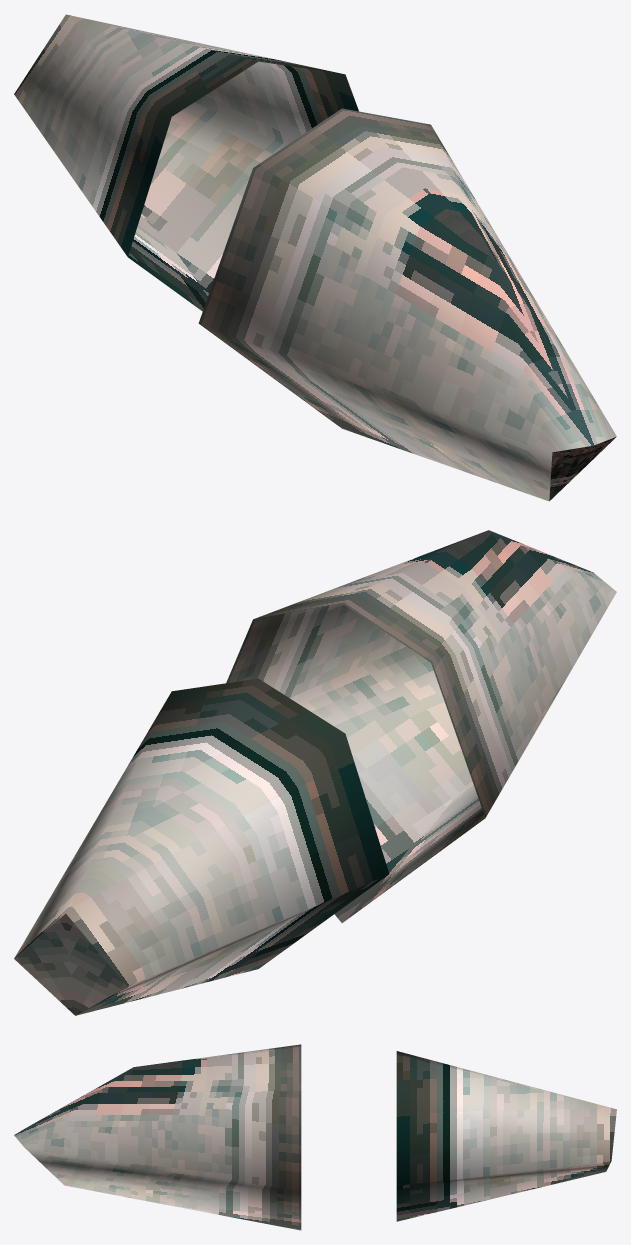
The model's file is bwing_cockpit_pod_l3.fbx.
The picture shows the model from 3 angles, top to bottom: view 1: azimuth 30°, elevation 25°; view 2: azimuth 150°, elevation 25°; view 3: azimuth 270°, elevation 25°; orthographic projection. The views are drawn at different scales.
Parts seen in each view (by area): view 1: mesh_node; view 2: mesh_node; view 3: mesh_node.
Boxes of the visible parts, x1,y1,x2,y2 form: mesh_node: (14, 14, 616, 501); mesh_node: (14, 530, 616, 1015); mesh_node: (14, 1044, 616, 1230).
Size of the model in its own units: 1.6 by 1.71 by 5.1.
Materials: 1 (1 with a texture image).
